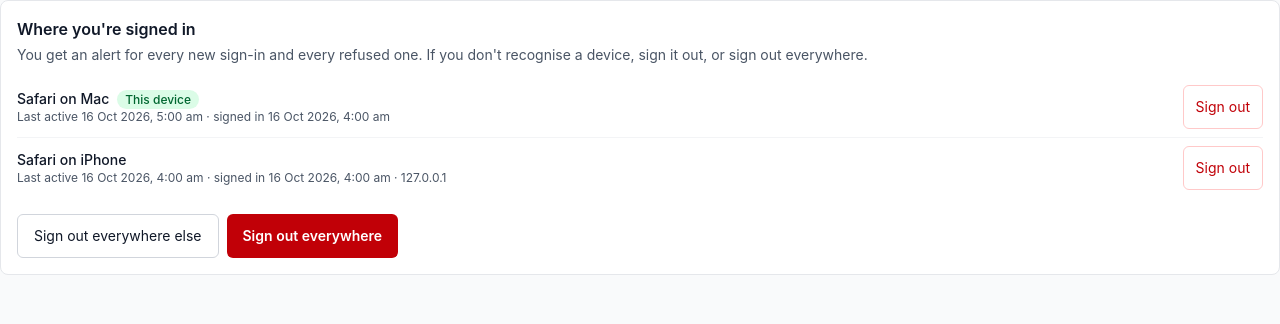
Scenario: SecuritySessions › a failed sign-out is shown and the buttons work again
Click the button "Sign out" in the row of "Safari on iPhone".
click(1223, 168)  # box [1183, 146, 1263, 190]
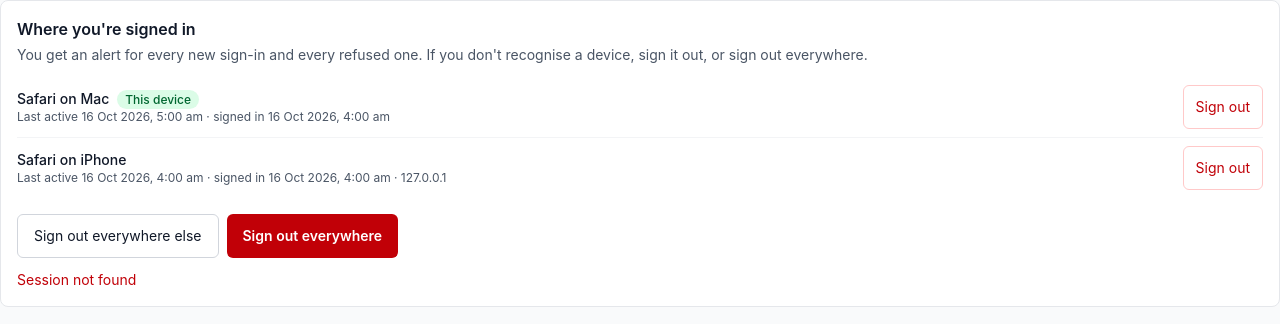
Expected: the message reads "Session not found", [17, 271, 136, 288]
